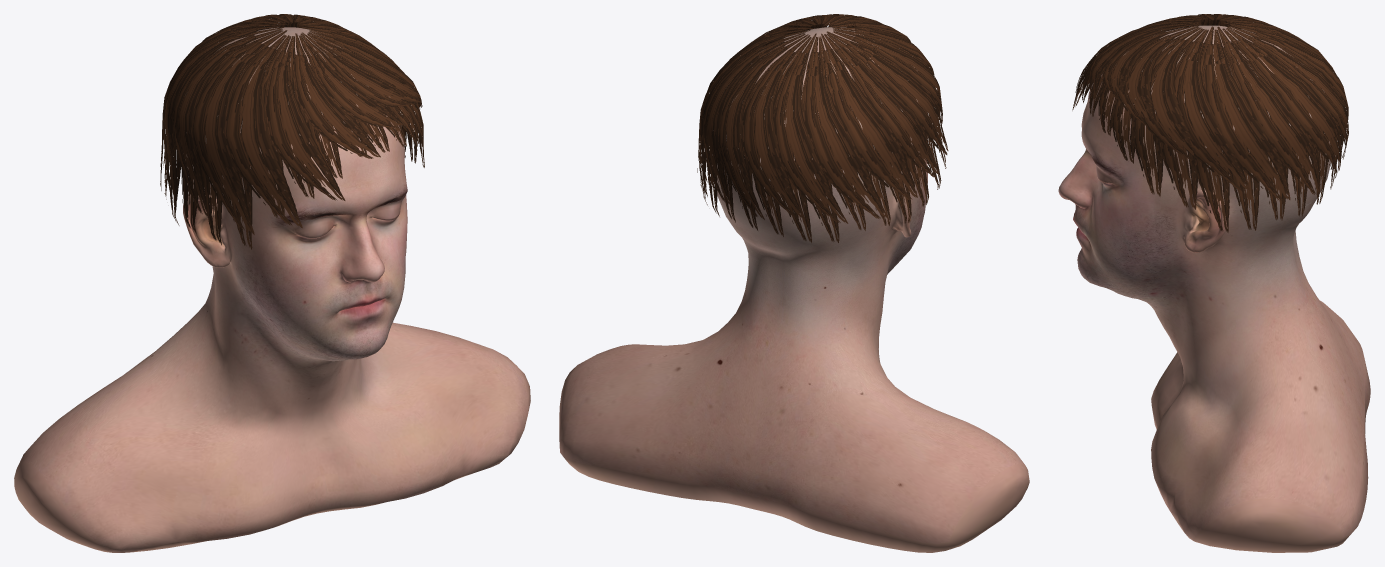
The model's file is infinite-head-hair.gltf.
The picture shows the model from 3 angles, left to right: view 1: azimuth 30°, elevation 25°; view 2: azimuth 150°, elevation 25°; view 3: azimuth 270°, elevation 25°; orthographic projection. The views are drawn at different scales.
Parts seen in each view (by area): view 1: Infinite head, Layered hair cards; view 2: Infinite head, Layered hair cards; view 3: Infinite head, Layered hair cards.
Part boxes in pixels (left/top/right/bottom): Infinite head: left=14, top=27, right=530, bottom=552; Layered hair cards: left=160, top=14, right=424, bottom=249; Infinite head: left=559, top=27, right=1029, bottom=552; Layered hair cards: left=697, top=14, right=948, bottom=242; Infinite head: left=1058, top=25, right=1370, bottom=552; Layered hair cards: left=1072, top=14, right=1348, bottom=232.
Size of the model in its own units: 0.1711 by 0.163 by 0.1036.
Materials: 2 (2 with a texture image).
